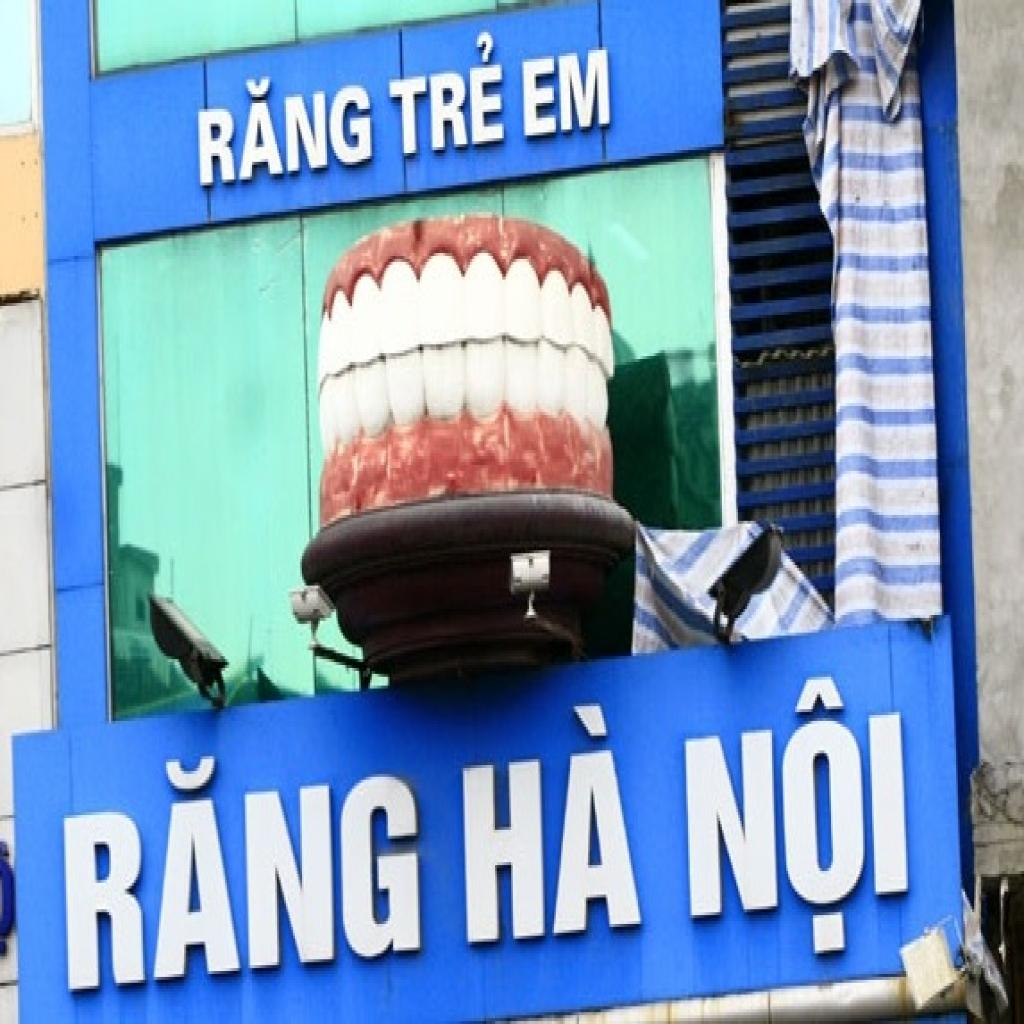text: (59, 732, 427, 1000), (459, 694, 649, 954), (195, 62, 377, 194), (386, 23, 508, 162), (520, 44, 615, 144)
